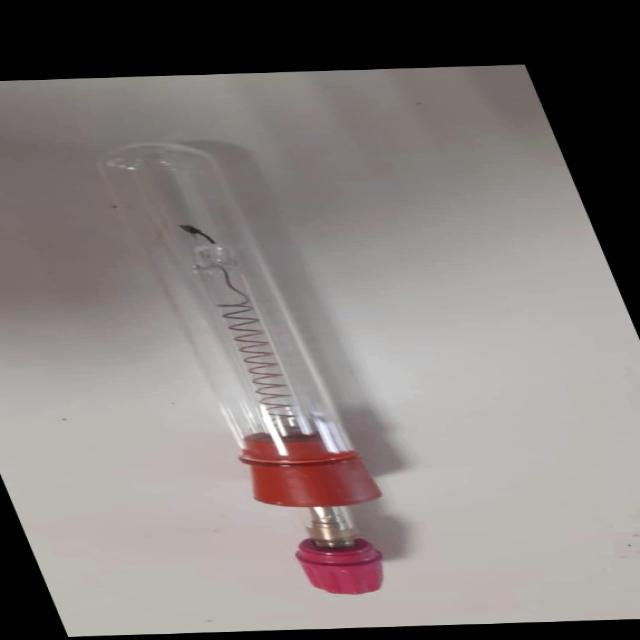Electrode: (51, 127, 444, 600)
